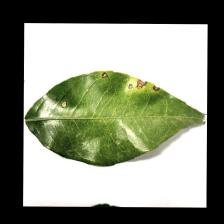canker: (58, 65, 162, 112)
